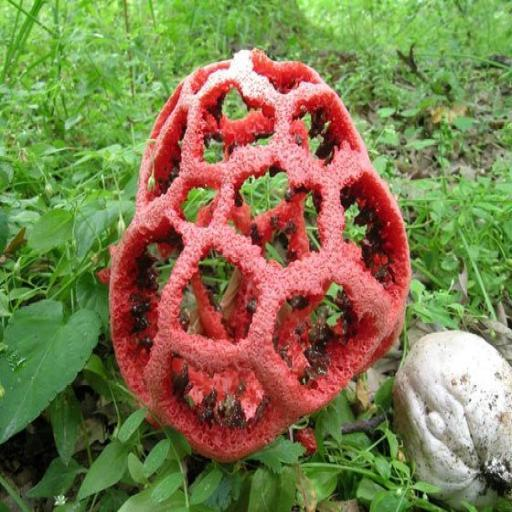mushroom: (11, 16, 468, 489)
